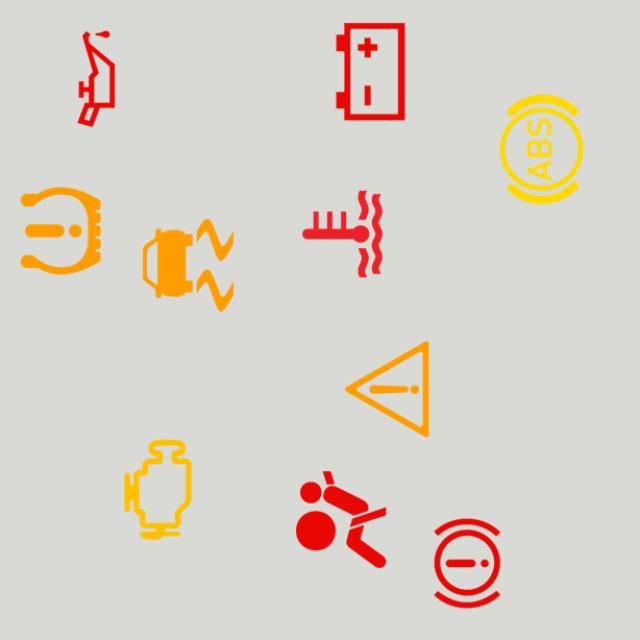Anti Lock Braking System: (482, 90, 602, 210)
Braking System Issue: (408, 504, 528, 624)
Charging System Issue: (310, 12, 430, 132)
Check Engine: (98, 430, 218, 550)
Electronic Stability Problem -ESP-: (128, 206, 248, 326)
Engine Overheating Warning Light: (282, 174, 402, 294)
Low Engine Oil Warning Light: (36, 18, 156, 138)
Low Tire Pressure Warning Light: (1, 171, 121, 291)
Master warning light: (327, 330, 447, 450)
SRS-Airbag: (282, 460, 402, 580)
